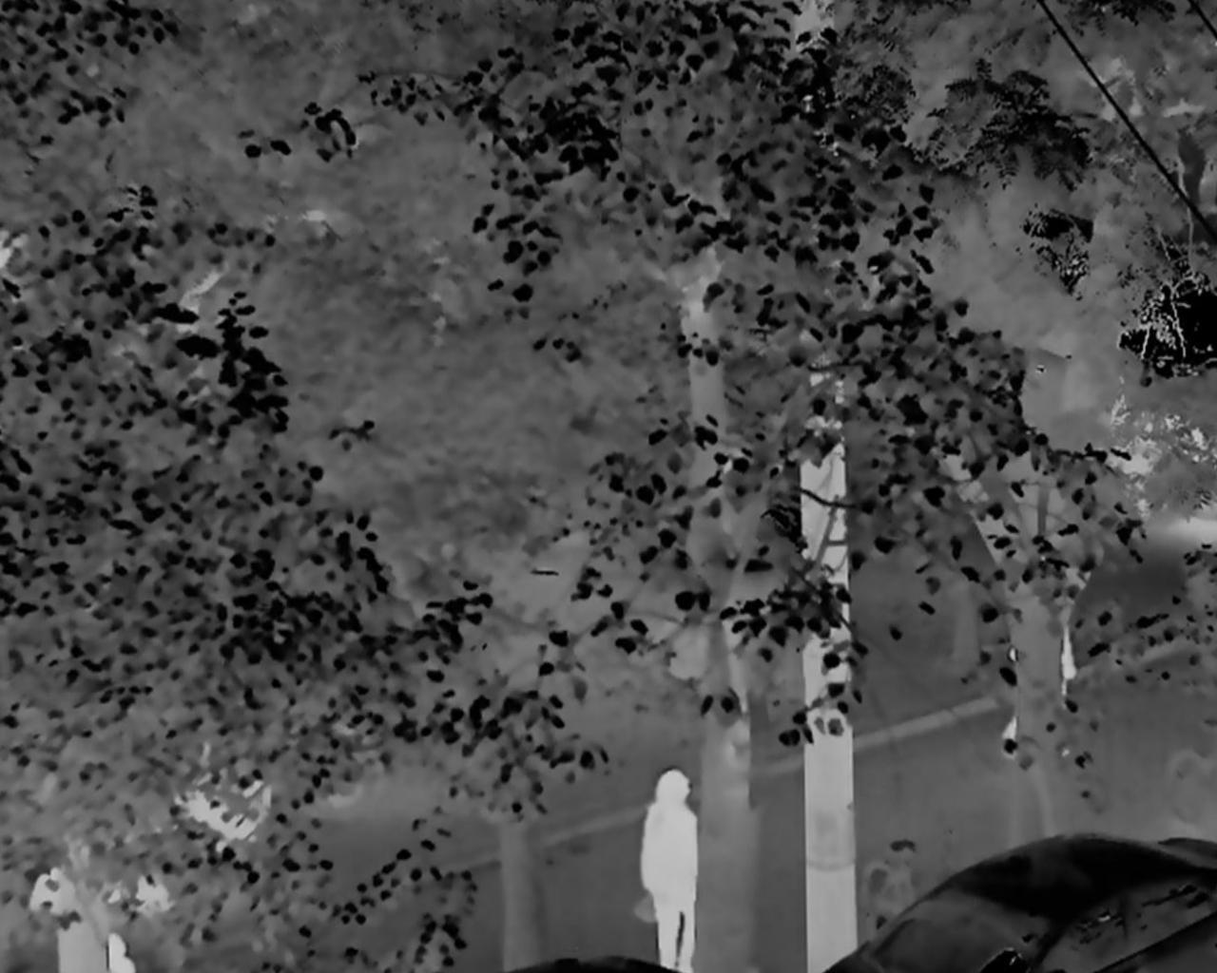person: (638, 763, 704, 973)
